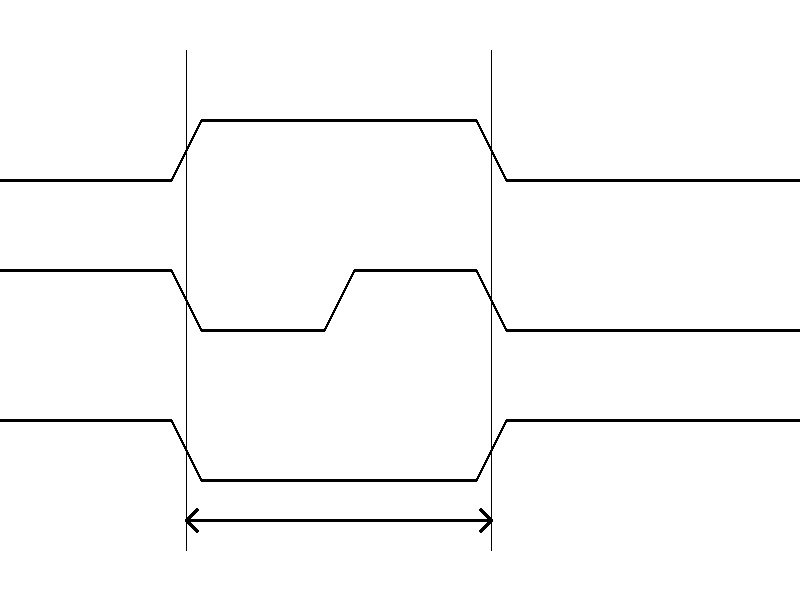double_arrow: (186, 505, 491, 535)
